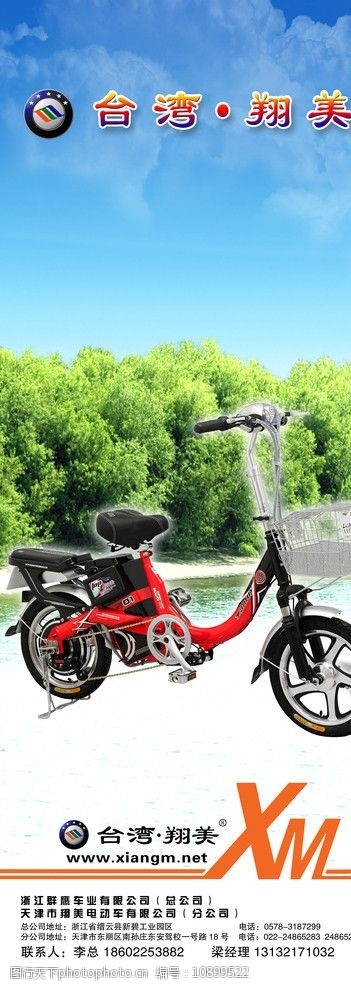电动车: (4, 400, 351, 746)
